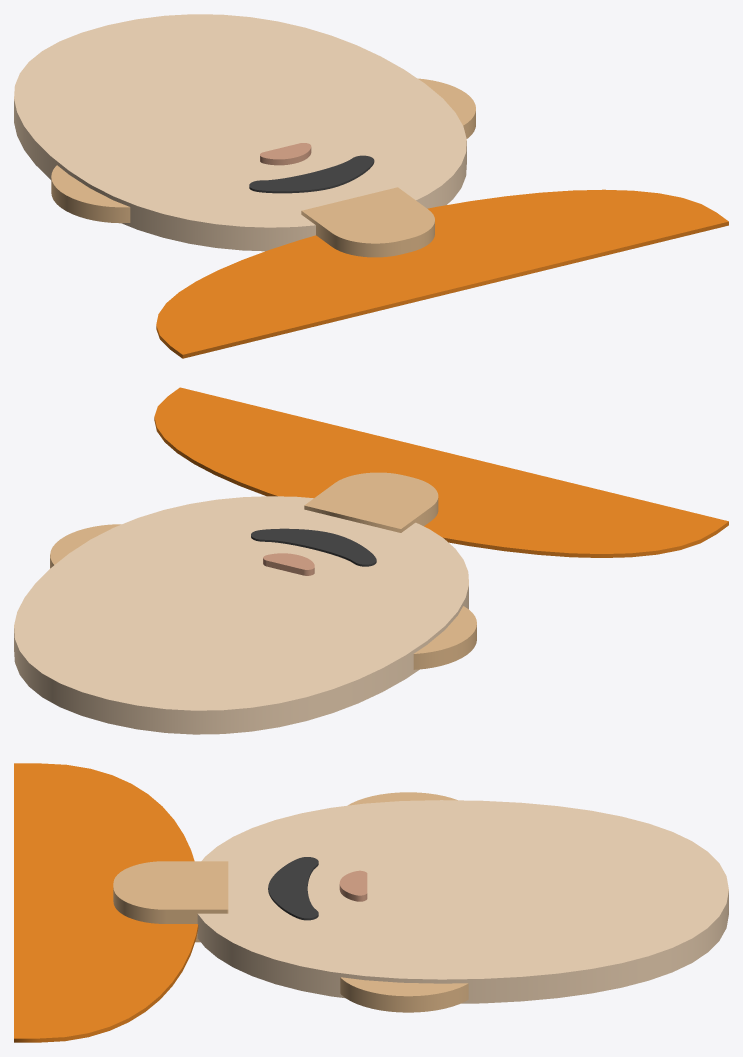
The model's file is emoji_u1f9d1_1f3fb_200d_1f9b2.glb.
3 renders of one model, top to bottom at view 1: azimuth 30°, elevation 25°; view 2: azimuth 150°, elevation 25°; view 3: azimuth 270°, elevation 25°, orthographic. The views are drawn at different scales.
Visible parts, largest first — view 1: emoji_u1f9d1_1f3fb_200d_1f9b2; view 2: emoji_u1f9d1_1f3fb_200d_1f9b2; view 3: emoji_u1f9d1_1f3fb_200d_1f9b2.
Boxes of the visible parts, left/top/right/bottom form: emoji_u1f9d1_1f3fb_200d_1f9b2: left=14, top=14, right=728, bottom=358; emoji_u1f9d1_1f3fb_200d_1f9b2: left=14, top=387, right=728, bottom=734; emoji_u1f9d1_1f3fb_200d_1f9b2: left=14, top=763, right=728, bottom=1042.
Bounding box in the file's own units: 0.0289 × 0.0018 × 0.0317.
